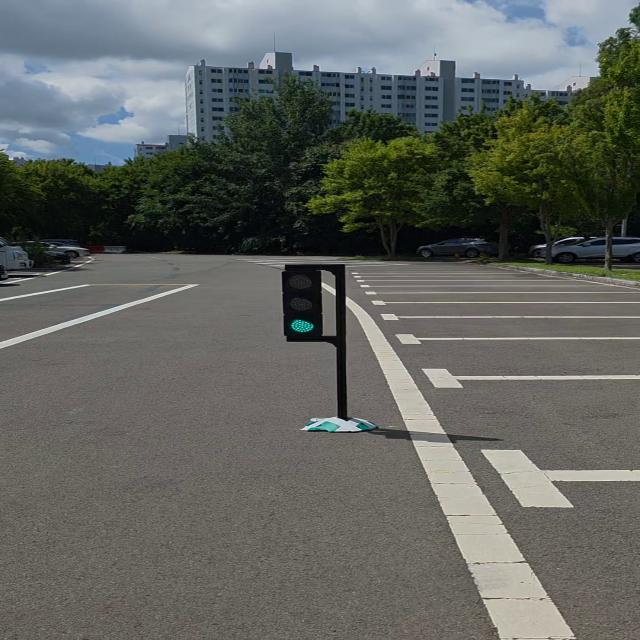green: (283, 268, 327, 342)
